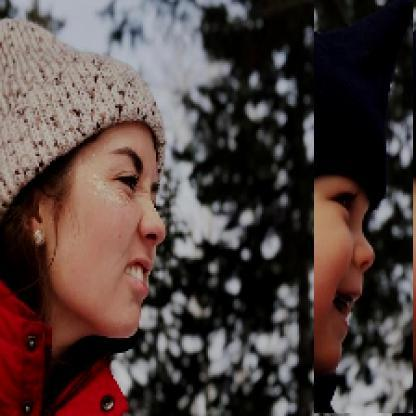child: (315, 1, 415, 415)
